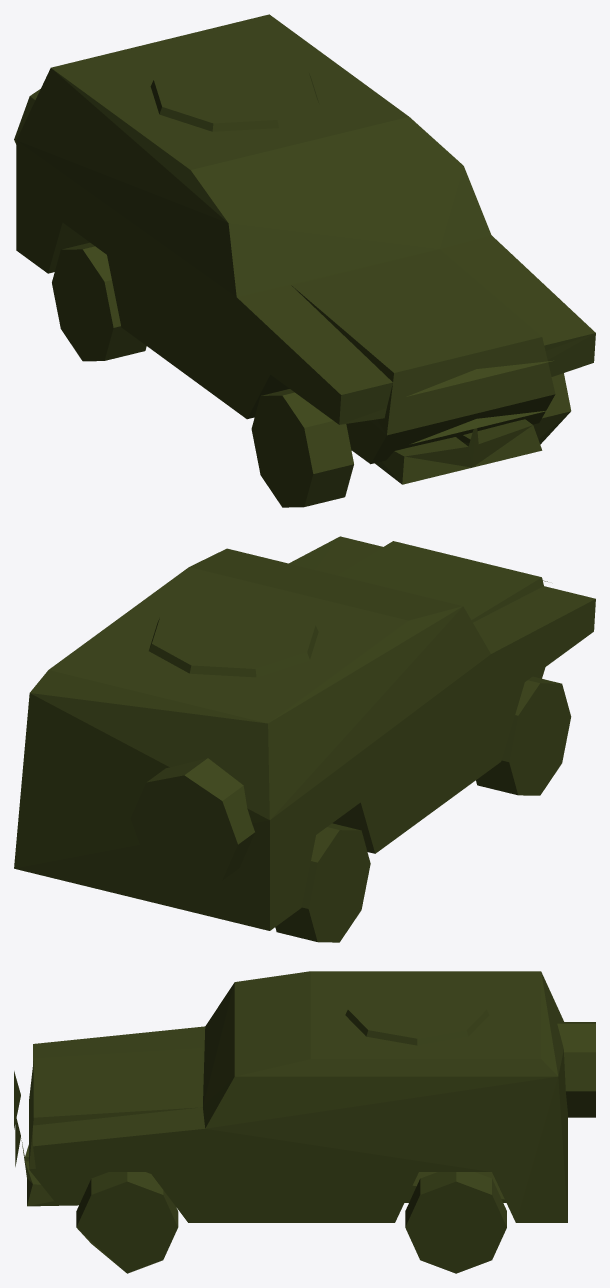
The model's file is mil-armoured-car.lod2.glb.
The picture shows the model from 3 angles, top to bottom: view 1: azimuth 30°, elevation 25°; view 2: azimuth 150°, elevation 25°; view 3: azimuth 270°, elevation 25°; orthographic projection. The views are drawn at different scales.
Visible parts, largest first — view 1: Tiger_Tiger_0; view 2: Tiger_Tiger_0; view 3: Tiger_Tiger_0.
Part boxes in pixels (box(x1,y1,x2,y2)): Tiger_Tiger_0: box(14, 14, 595, 507); Tiger_Tiger_0: box(14, 536, 595, 942); Tiger_Tiger_0: box(14, 971, 595, 1273).
Size of the model in its own units: 2.4 by 2.29 by 5.68.
